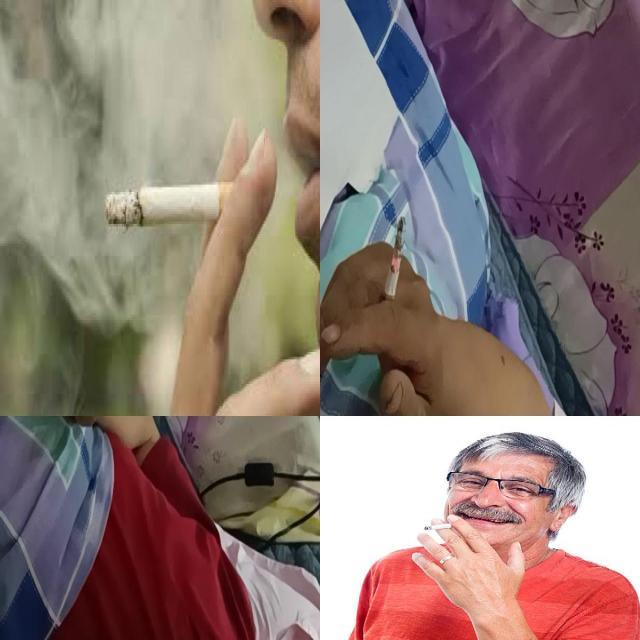smoking: (105, 180, 260, 225), (379, 219, 405, 319), (424, 522, 454, 530)
